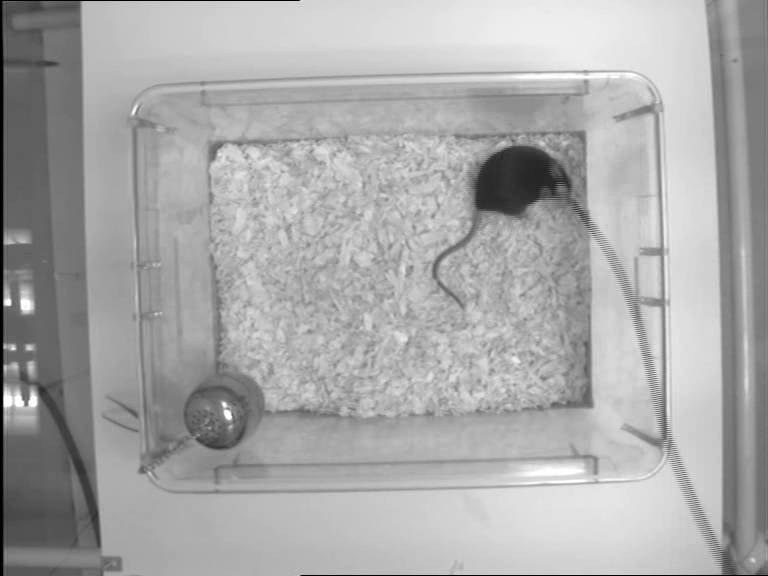mice: (430, 142, 573, 313)
